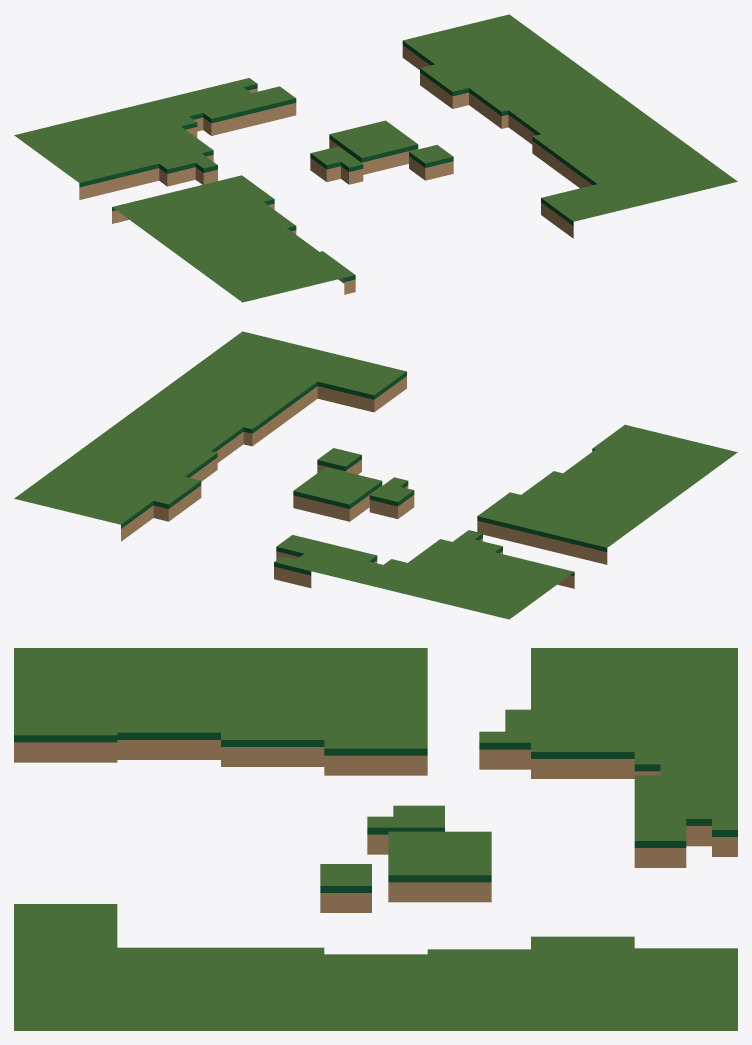
File: SM_Env_Tile_02.fbx
The picture shows the model from 3 angles, top to bottom: view 1: azimuth 30°, elevation 25°; view 2: azimuth 150°, elevation 25°; view 3: azimuth 270°, elevation 25°; orthographic projection. The views are drawn at different scales.
Parts seen in each view (by area): view 1: SM_Env_Tile_02; view 2: SM_Env_Tile_02; view 3: SM_Env_Tile_02.
Part boxes in pixels (x1=…): SM_Env_Tile_02: x1=14, y1=14, x2=737, y2=302; SM_Env_Tile_02: x1=14, y1=331, x2=737, y2=619; SM_Env_Tile_02: x1=14, y1=648, x2=737, y2=1030.
Bounding box in the file's own units: 87.59 × 70 × 2.89.
